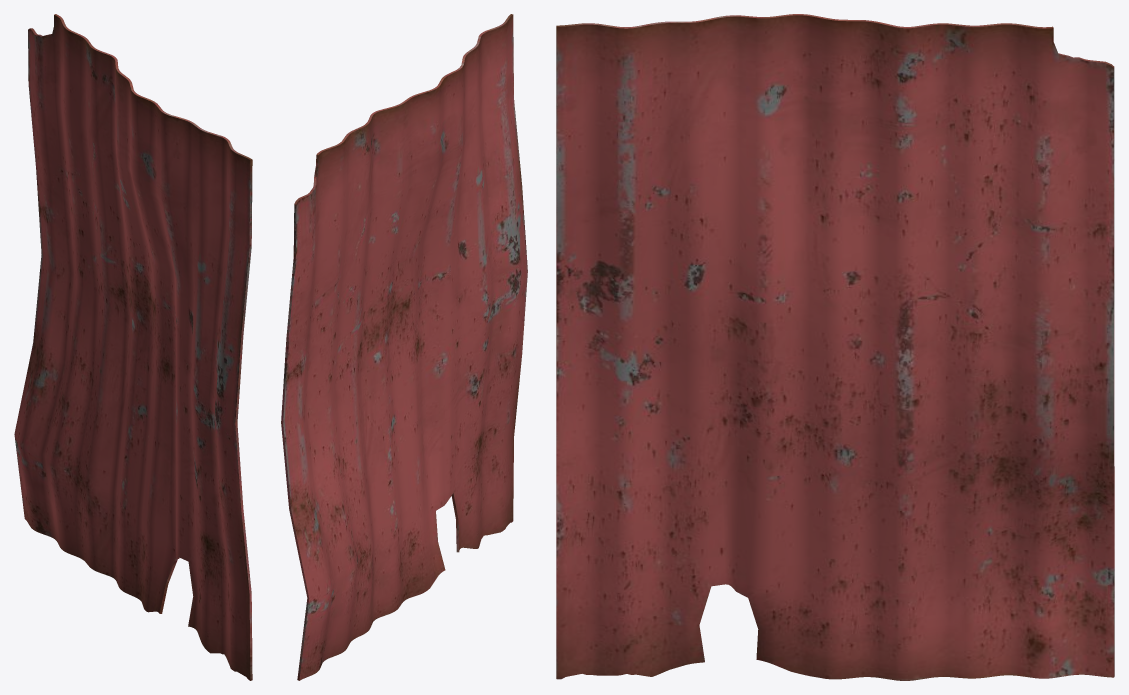
Rendered from egri_sac_a.gltf.
The picture shows the model from 3 angles, left to right: view 1: azimuth 30°, elevation 25°; view 2: azimuth 150°, elevation 25°; view 3: azimuth 270°, elevation 25°; orthographic projection. The views are drawn at different scales.
Parts seen in each view (by area): view 1: egri_sac_a; view 2: egri_sac_a; view 3: egri_sac_a.
Boxes of the visible parts, box(x1,y1,x2,y2) form: egri_sac_a: box(14, 14, 252, 680); egri_sac_a: box(281, 14, 527, 680); egri_sac_a: box(556, 14, 1114, 680).
Size of what is drawn, in the model's own units: 0.229 by 3 by 2.32.
Materials: 1 (1 with a texture image).
